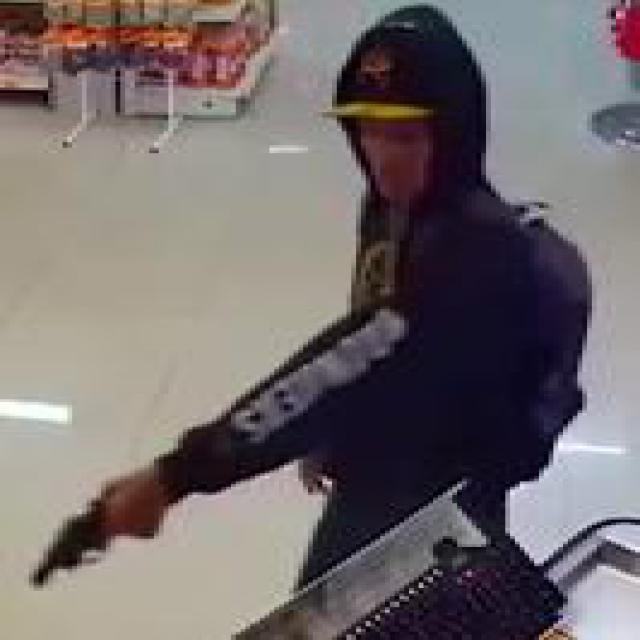gun: (24, 478, 164, 586)
